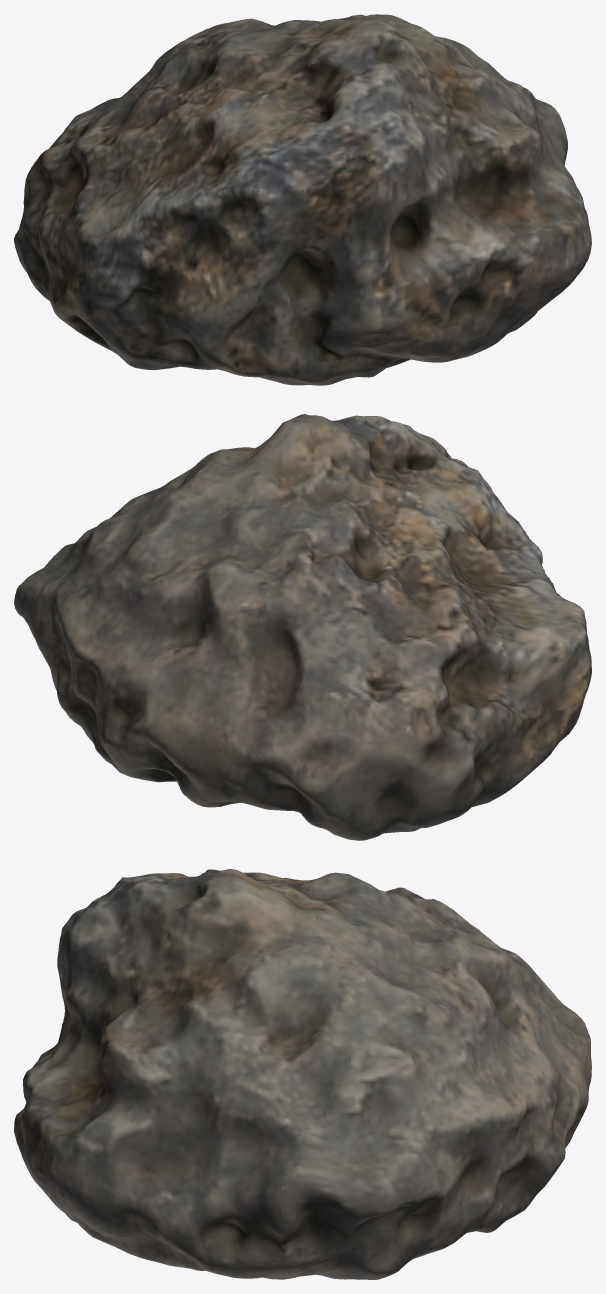
Rendered from asteroid_common_1_lod1.glb.
The picture shows the model from 3 angles, top to bottom: view 1: azimuth 30°, elevation 25°; view 2: azimuth 150°, elevation 25°; view 3: azimuth 270°, elevation 25°; orthographic projection. The views are drawn at different scales.
Visible parts, largest first — view 1: model; view 2: model; view 3: model.
Boxes of the visible parts, box(x1,y1,x2,y2) form: model: box(14, 14, 591, 385); model: box(14, 414, 591, 840); model: box(14, 869, 591, 1279).
Size of the model in its own units: 1.88 by 1.15 by 1.67.
1 material, 1 textured.
